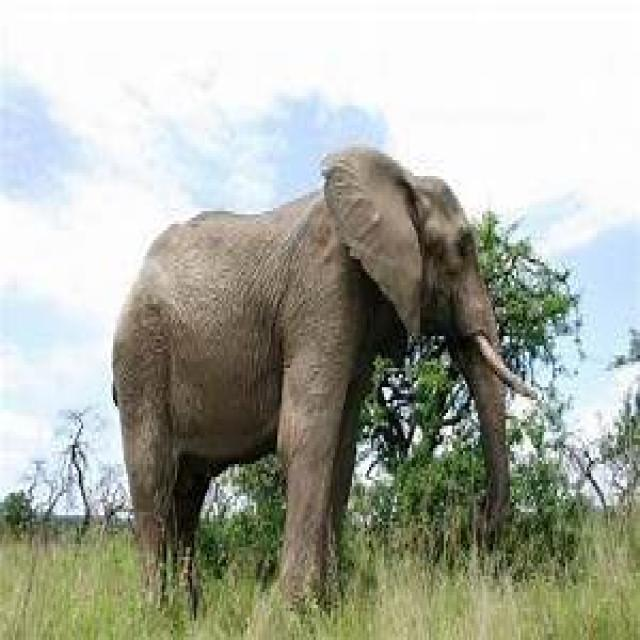elephant: (111, 147, 540, 614)
